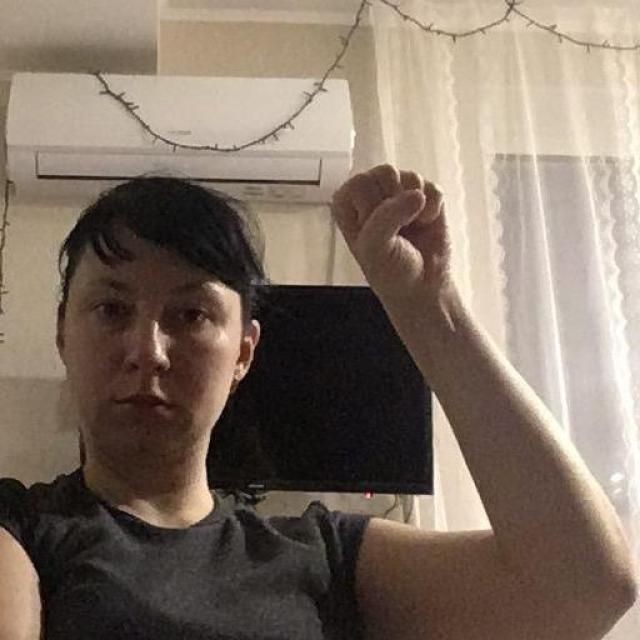hand: (329, 161, 459, 335)
